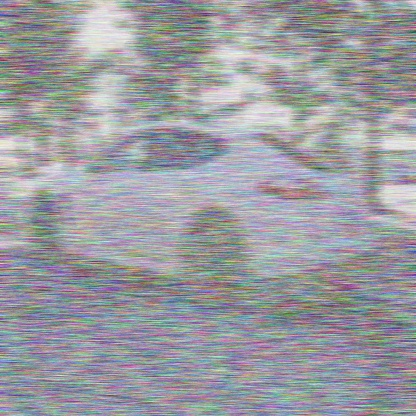Vehicle: (24, 125, 374, 308)
